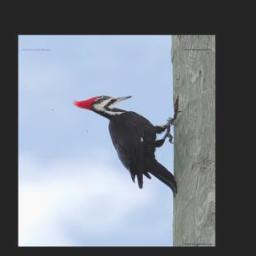Woodpecker: (72, 94, 182, 197)
